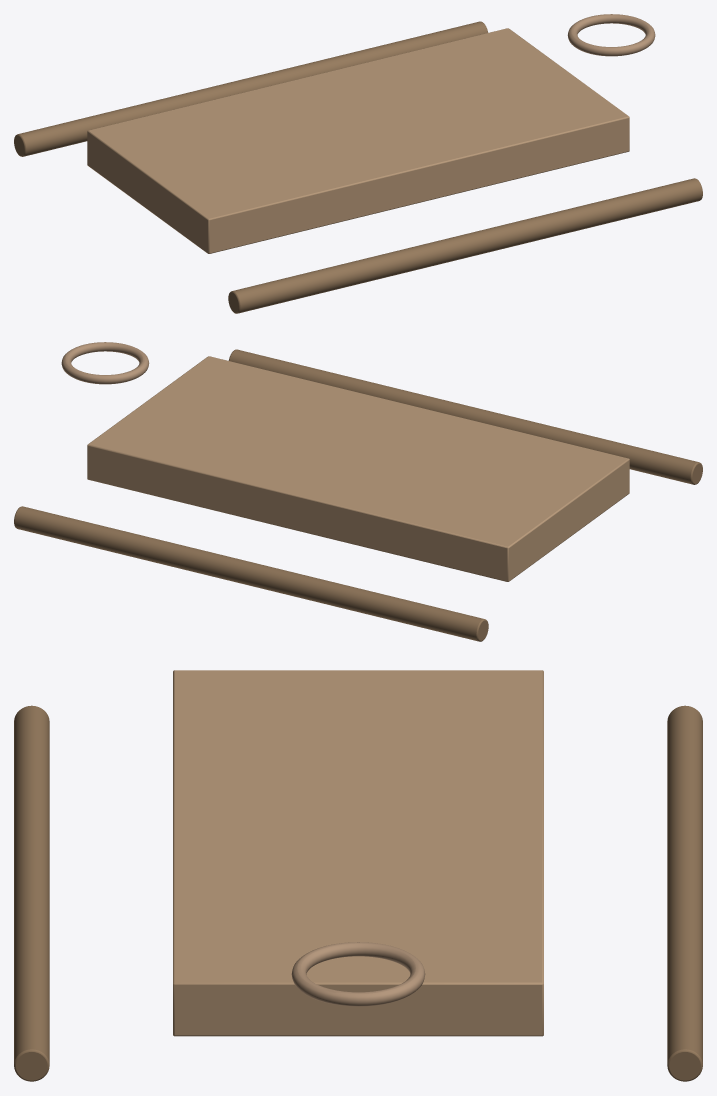
File: SM_EQP_DRAG_SLED.fbx
3 renders of one model, top to bottom at view 1: azimuth 30°, elevation 25°; view 2: azimuth 150°, elevation 25°; view 3: azimuth 270°, elevation 25°, orthographic. The views are drawn at different scales.
Parts seen in each view (by area): view 1: SM_EQP_DRAG_SLED; view 2: SM_EQP_DRAG_SLED; view 3: SM_EQP_DRAG_SLED.
Boxes of the visible parts, x1,y1,x2,y2 form: SM_EQP_DRAG_SLED: (14,14,702,313); SM_EQP_DRAG_SLED: (14,342,702,641); SM_EQP_DRAG_SLED: (14,670,702,1081).
Size of what is drawn, in the model's own units: 0.62 by 0.0968 by 0.464.
